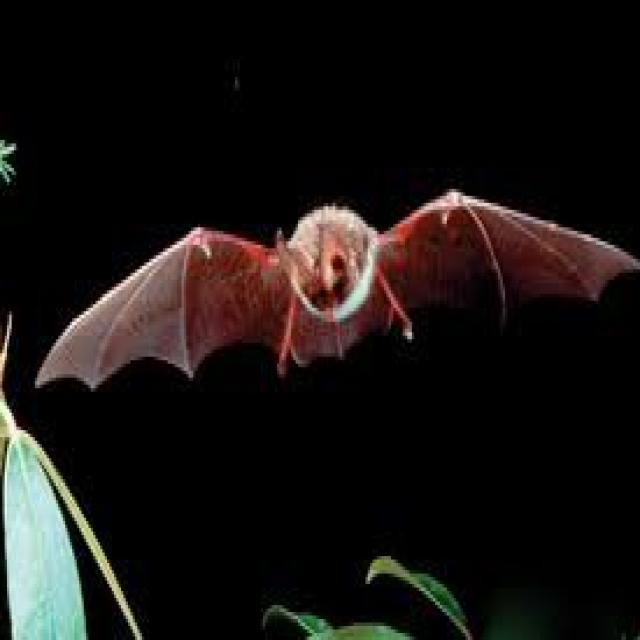Bat: (34, 191, 637, 412)
